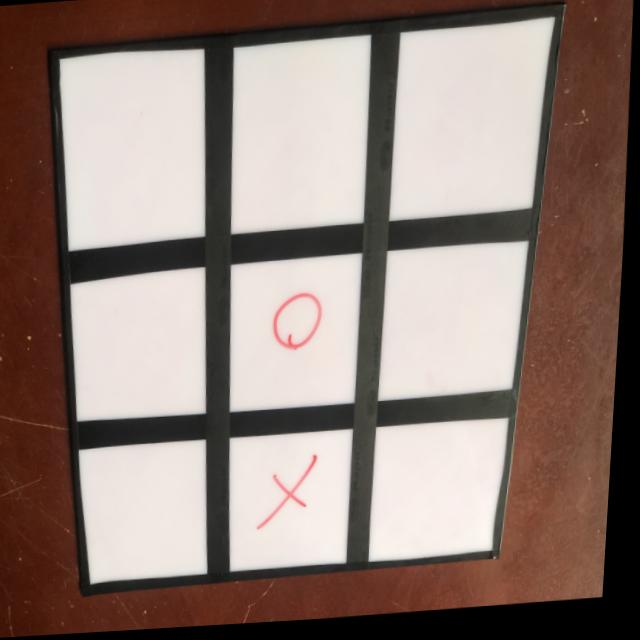null: (383, 11, 555, 239), (56, 47, 220, 252), (234, 40, 371, 237), (382, 239, 533, 414), (73, 269, 217, 423), (375, 418, 515, 574), (84, 441, 221, 585)
o: (269, 288, 335, 364)
table: (46, 9, 609, 597)
x: (255, 451, 328, 539)
